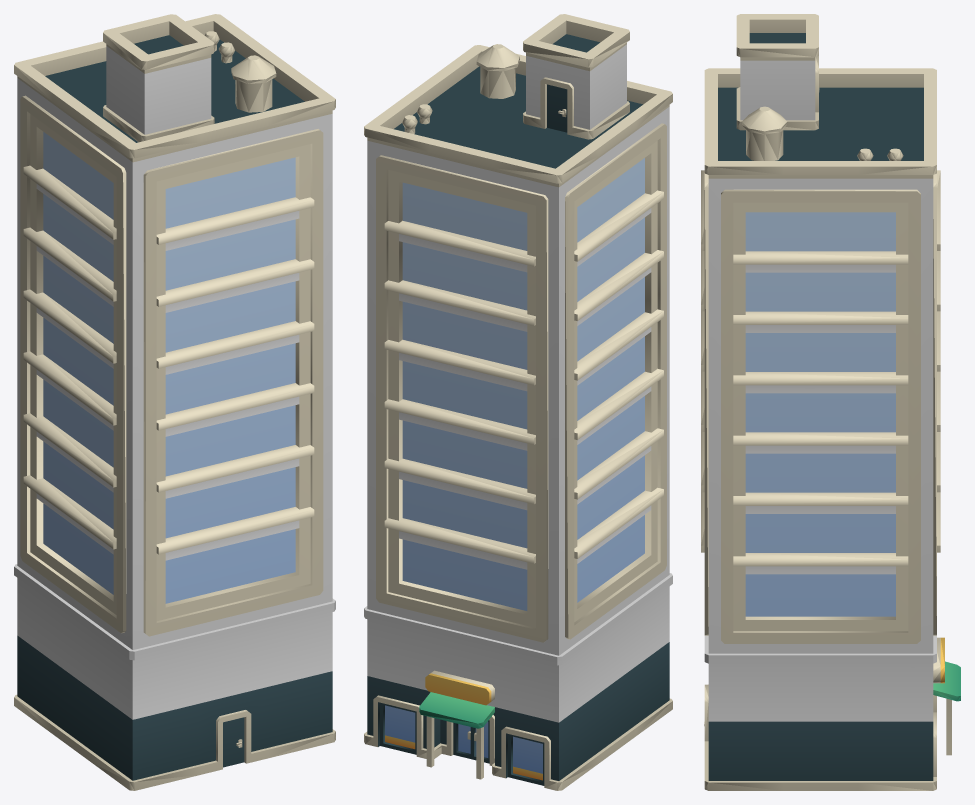
File: building-skyscraper-c.glb
The picture shows the model from 3 angles, left to right: view 1: azimuth 30°, elevation 25°; view 2: azimuth 150°, elevation 25°; view 3: azimuth 270°, elevation 25°; orthographic projection. The views are drawn at different scales.
Visible parts, largest first — view 1: building-skyscraper-c; view 2: building-skyscraper-c; view 3: building-skyscraper-c.
Part boxes in pixels (left/top/right/bottom): building-skyscraper-c: left=14, top=14, right=335, bottom=790; building-skyscraper-c: left=364, top=14, right=672, bottom=790; building-skyscraper-c: left=701, top=14, right=960, bottom=790.
Bounding box in the file's own units: 12.8 × 40.8 × 13.88.
